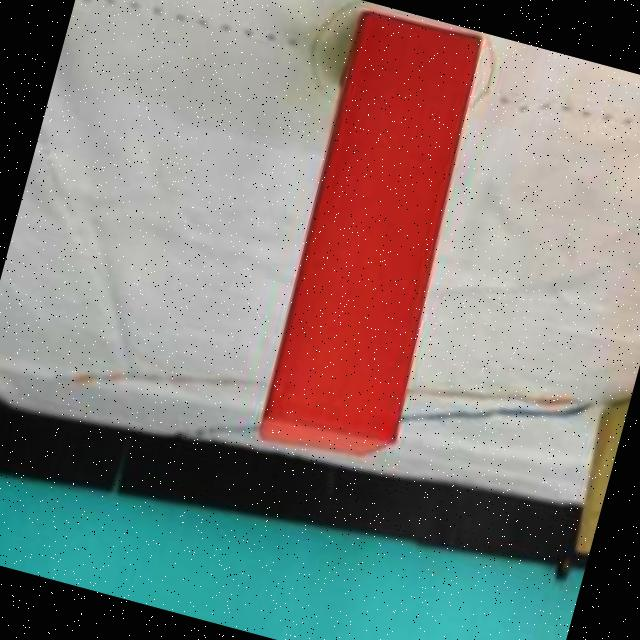redbox: (246, 5, 501, 472)
